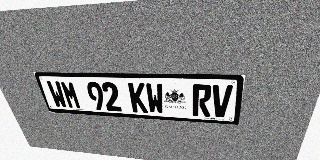2: (100, 82, 122, 111)
9: (85, 82, 107, 111)
K: (128, 83, 148, 113)
M: (59, 81, 82, 109)
R: (192, 84, 212, 117)
V: (211, 85, 233, 118)
W: (145, 83, 165, 114), (46, 81, 68, 108)
